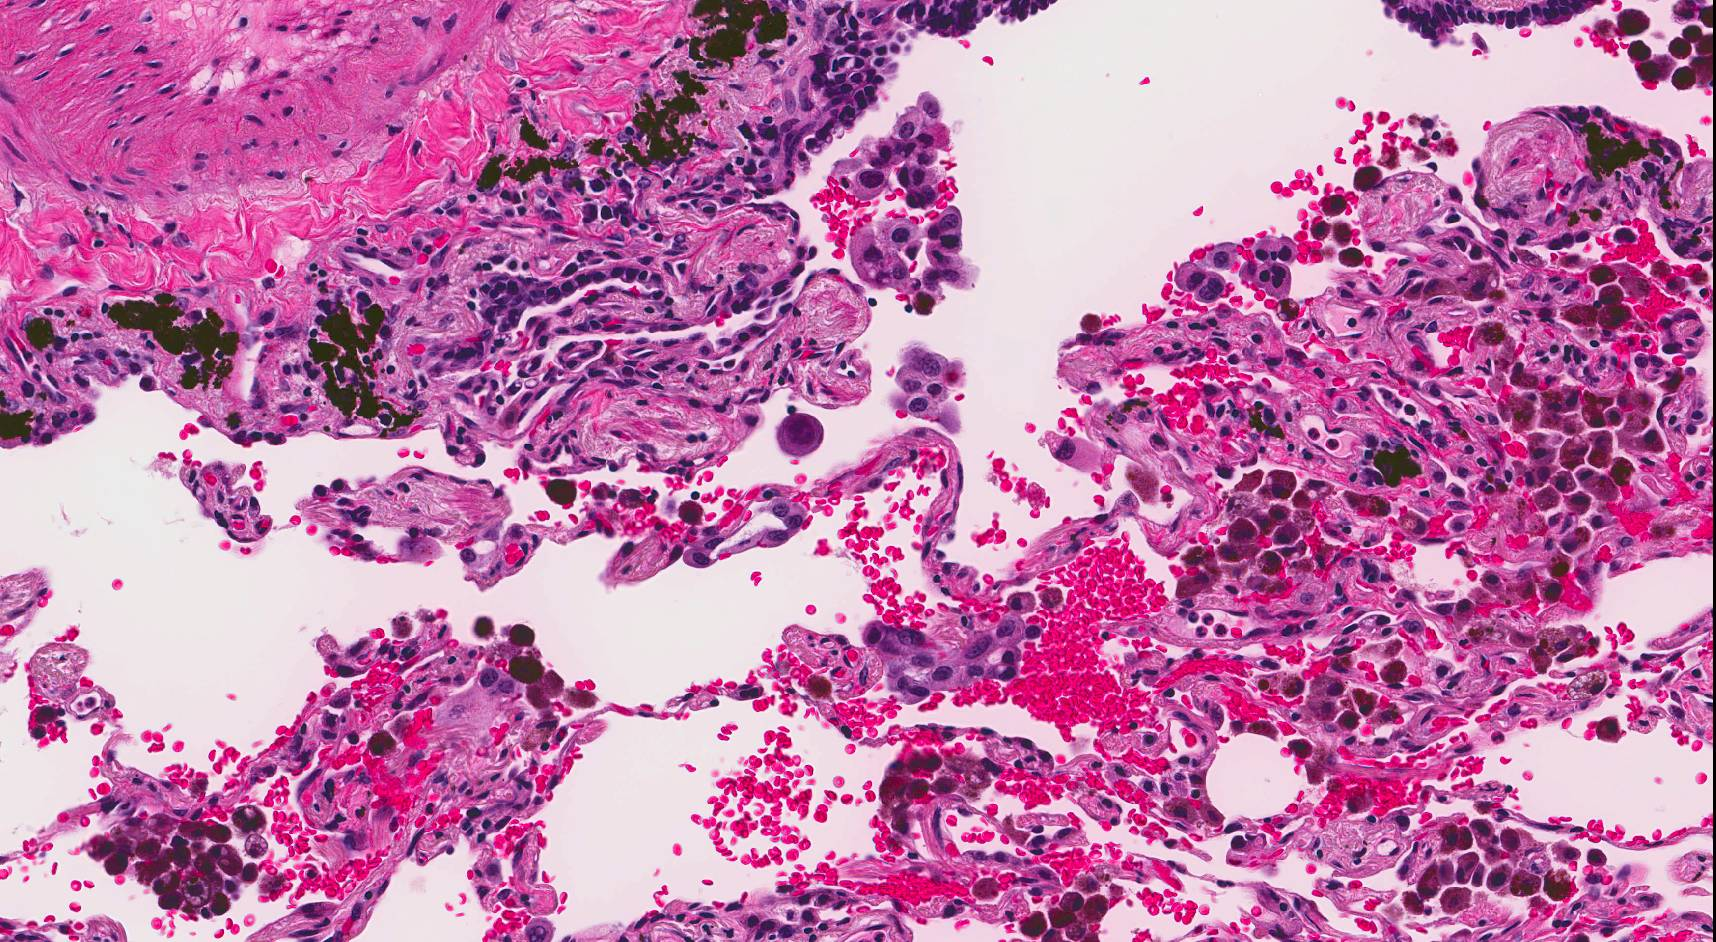stas: (861, 606, 1044, 703), (832, 94, 961, 211), (849, 206, 976, 317), (894, 345, 972, 437)
